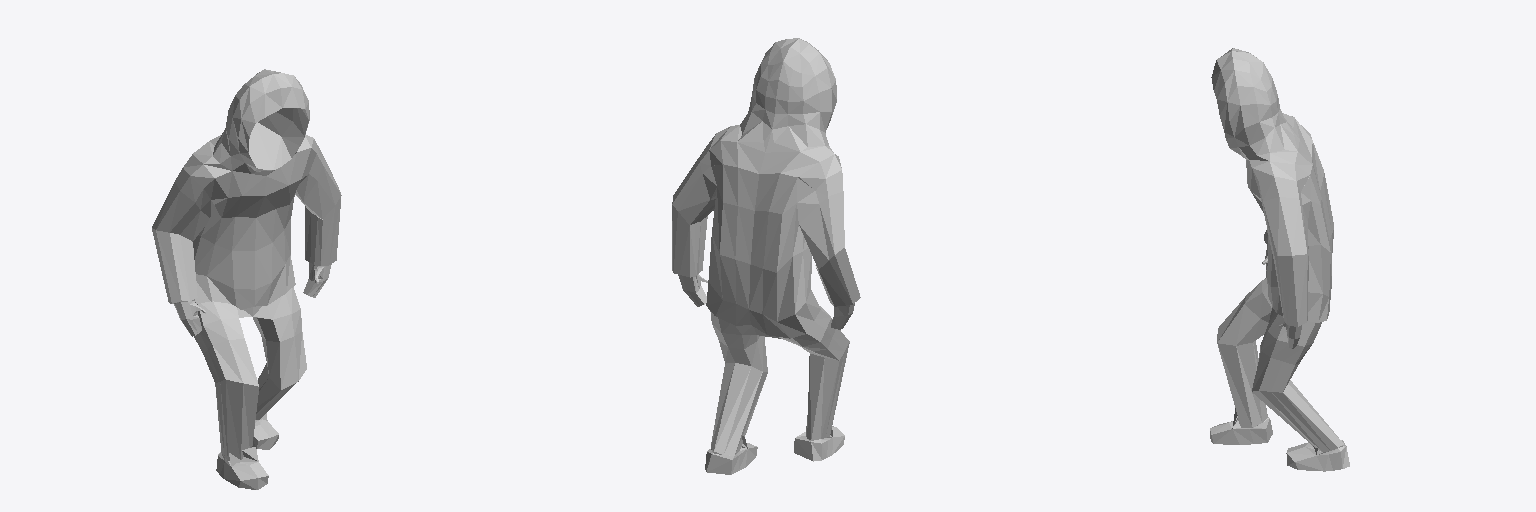
Rendered from Shadowmanv_000050.obj.
3 renders of one model, left to right at view 1: azimuth 30°, elevation 25°; view 2: azimuth 150°, elevation 25°; view 3: azimuth 270°, elevation 25°, orthographic.
Visible parts, largest first — view 1: Cube.000; view 2: Cube.000; view 3: Cube.000.
Part boxes in pixels (left/top/right/bottom): Cube.000: left=152, top=69, right=341, bottom=489; Cube.000: left=672, top=38, right=860, bottom=474; Cube.000: left=1210, top=48, right=1349, bottom=471.
Bounding box in the file's own units: 5.01 × 10.9 × 3.44.